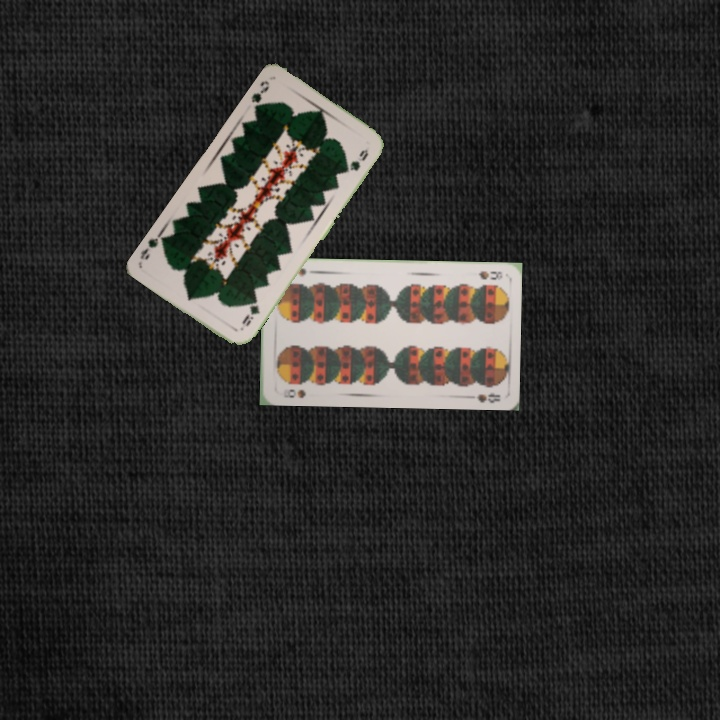G9: (236, 296, 262, 333), (247, 76, 272, 113)
S8: (474, 267, 505, 283), (285, 385, 308, 401)
